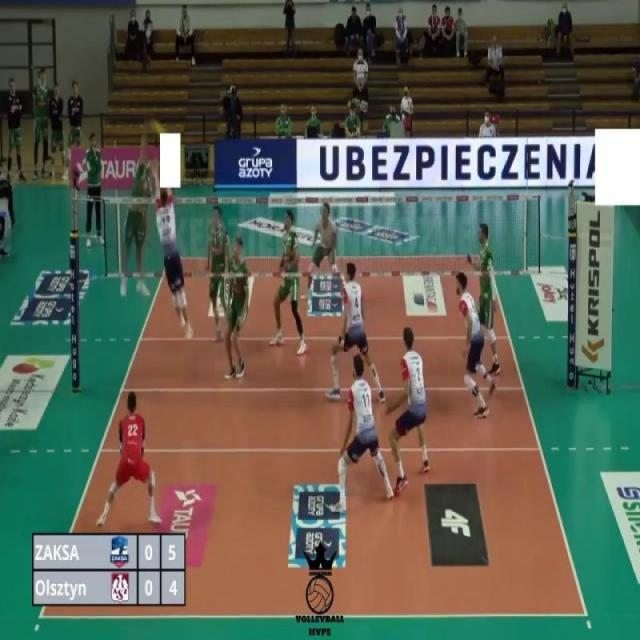volleyball: (150, 120, 162, 133)
